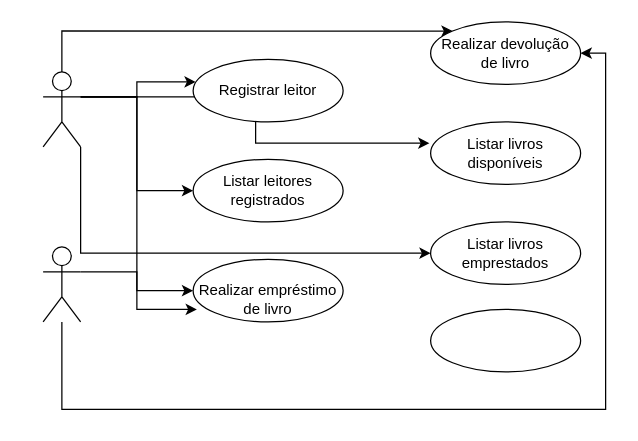
Image size: 638x441. Some labels were removed from this diagram. The centre of each missing label's shape, as x and y in pixels:
Bibliotecário: (x=61, y=109)
Histórico: (x=505, y=340)
Leitor: (x=61, y=284)
